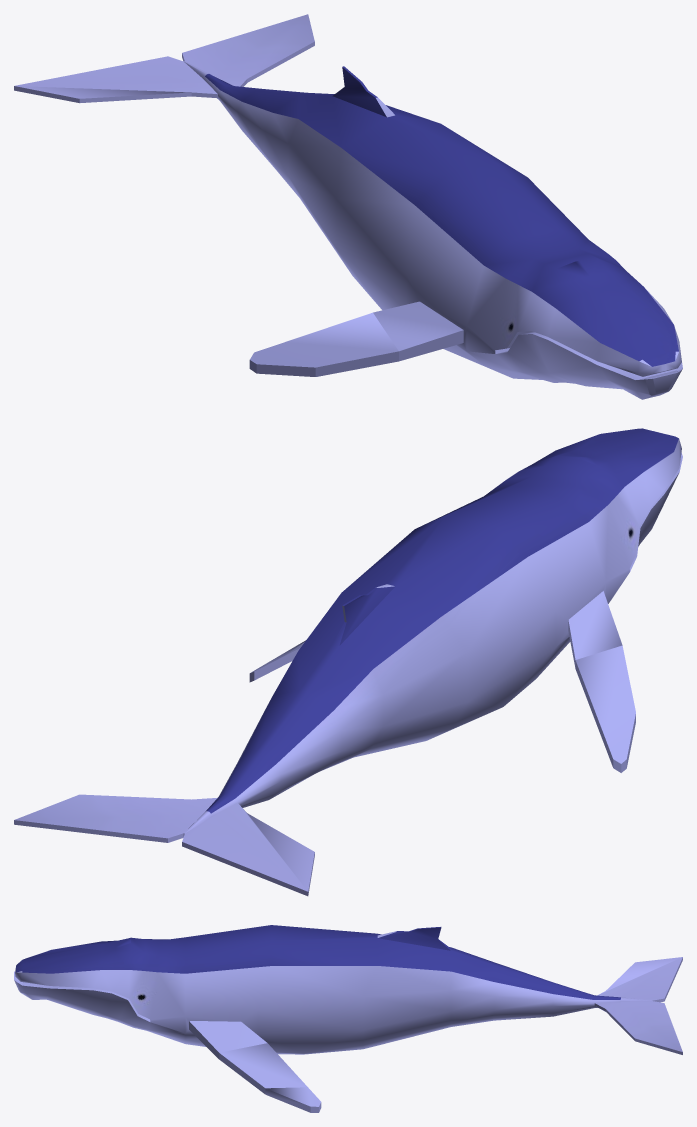
The model's file is baleine_high.obj.
The picture shows the model from 3 angles, top to bottom: view 1: azimuth 30°, elevation 25°; view 2: azimuth 150°, elevation 25°; view 3: azimuth 270°, elevation 25°; orthographic projection. The views are drawn at different scales.
Parts seen in each view (by area): view 1: whaleSonic.001; view 2: whaleSonic.001; view 3: whaleSonic.001.
Part boxes in pixels (box(x1,y1,x2,y2)): whaleSonic.001: box(14, 14, 682, 399); whaleSonic.001: box(14, 428, 682, 896); whaleSonic.001: box(14, 925, 682, 1112).
Size of the model in its own units: 0.1531 by 0.0748 by 0.36.
